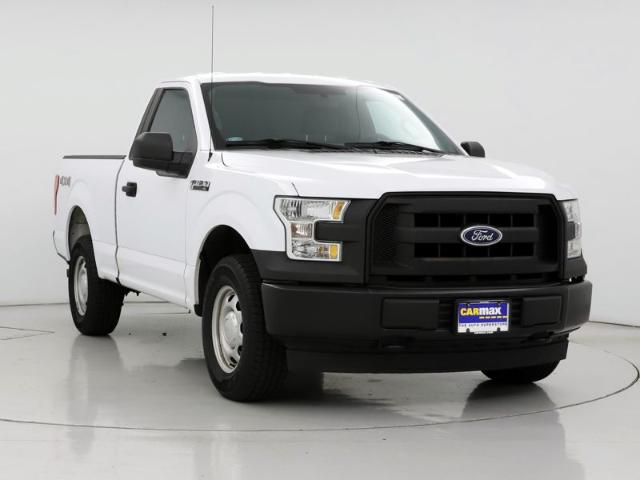pickup-truck: (50, 72, 593, 402)
